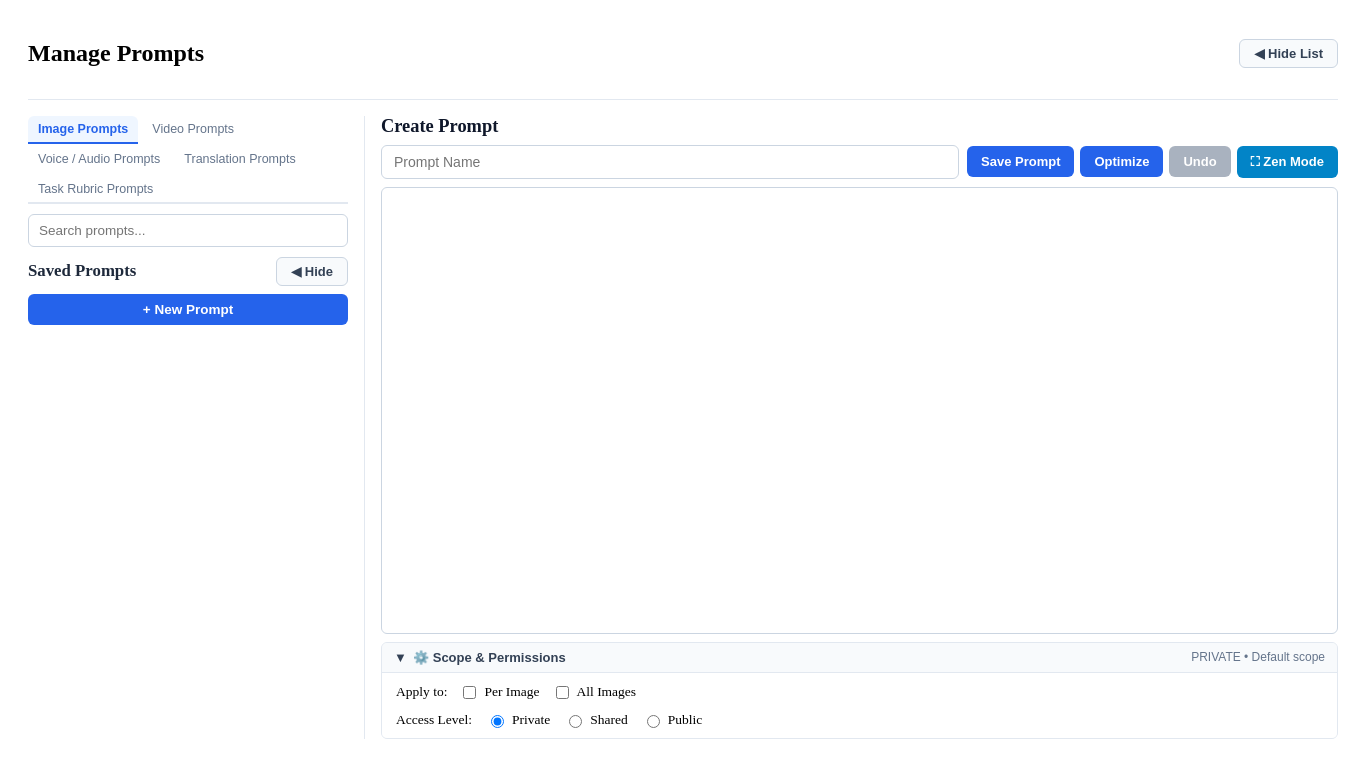
Test case: PromptManagement Component › protects public pre-seeded prompts from direct edits and supports Make a Copy to Personalize
This screenshot has width=1366, height=768.
Note: Switch to Video Prompts tab
Step 1. Click the button "Video Prompts" → {"x": 193, "y": 129}, box [142, 116, 244, 142]
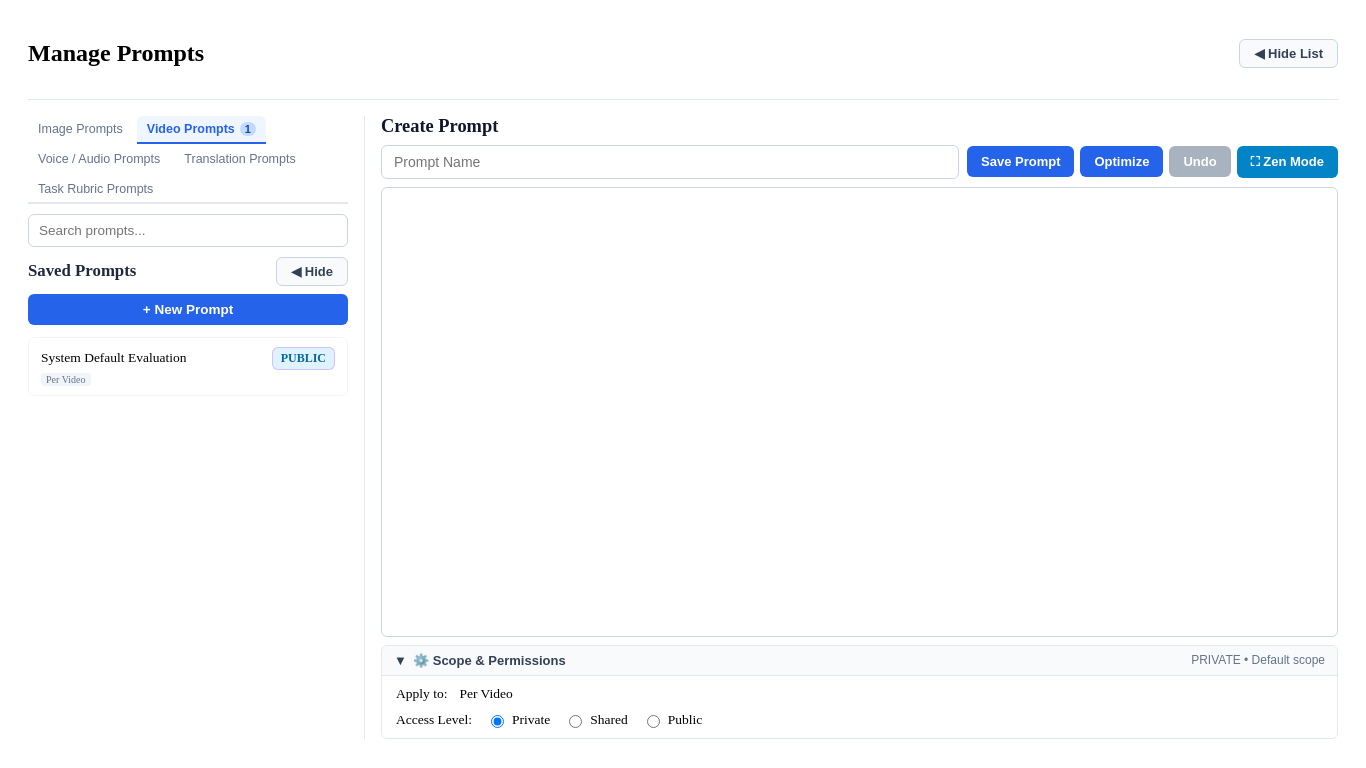
Note: Select the public prompt
Step 2. Click the text "System Default Evaluation" → {"x": 114, "y": 358}, box [41, 350, 186, 366]
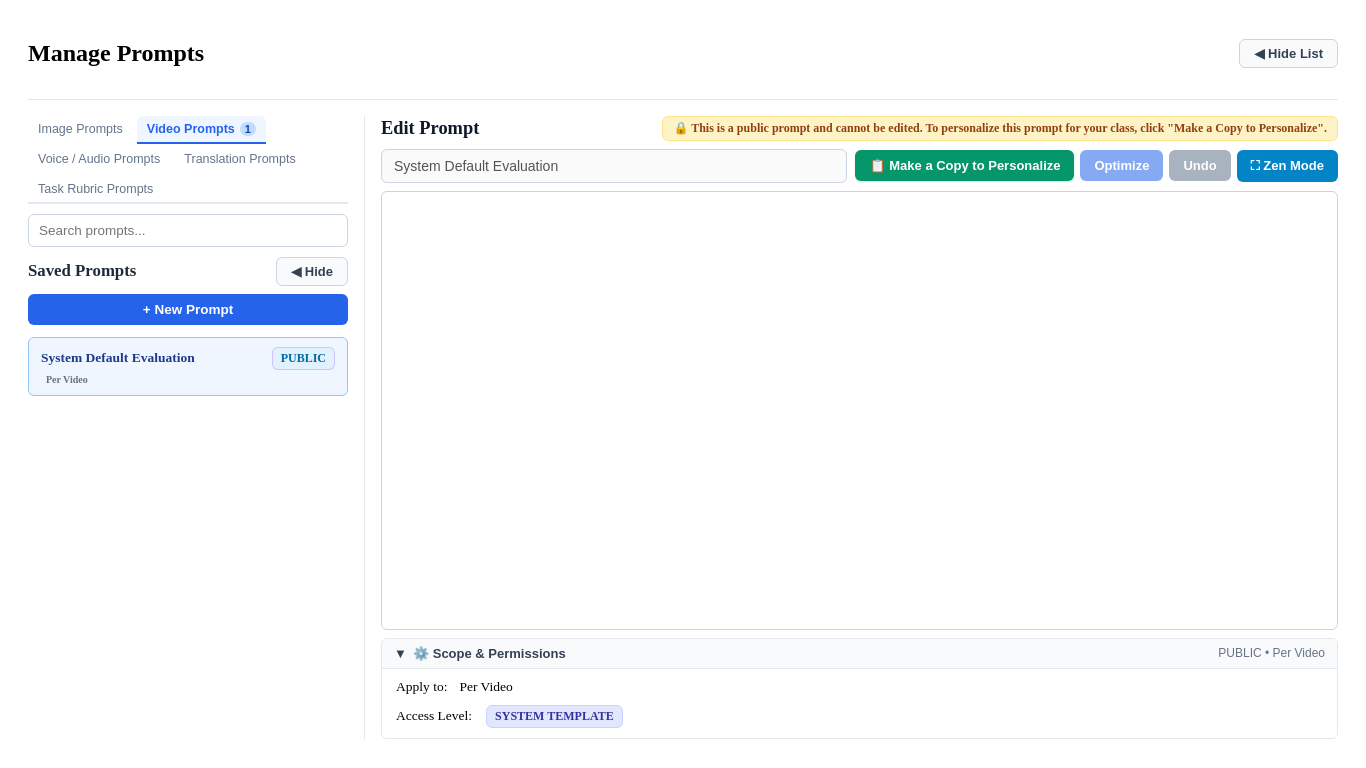
Check: the text "This is a public prompt and cannot be edited" is shown, box [673, 121, 1327, 135]
Check: the field with placeholder "Prompt Name" is disabled, box [381, 149, 847, 183]
Check: the button "📋 Make a Copy to Personalize" is shown
Note: Click "Make a Copy to Personalize"
Step 3. Click the button "📋 Make a Copy to Personalize" → {"x": 965, "y": 166}, box [855, 150, 1074, 181]
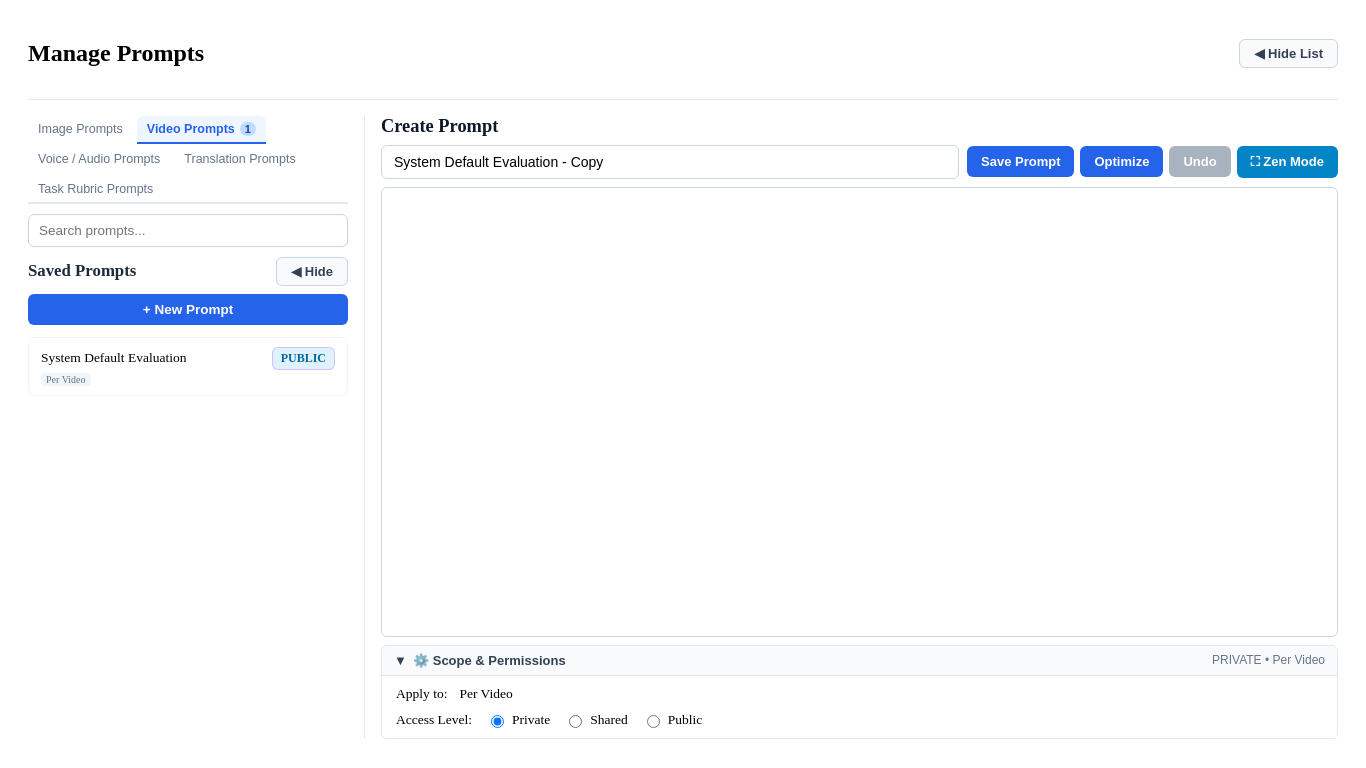
Check: the field with placeholder "Prompt Name" is enabled, box [381, 145, 959, 179]
Check: the field with placeholder "Prompt Name" holds "System Default Evaluation - Copy", box [381, 145, 959, 179]
Check: the button "Save Prompt" is shown, box [967, 146, 1074, 177]
